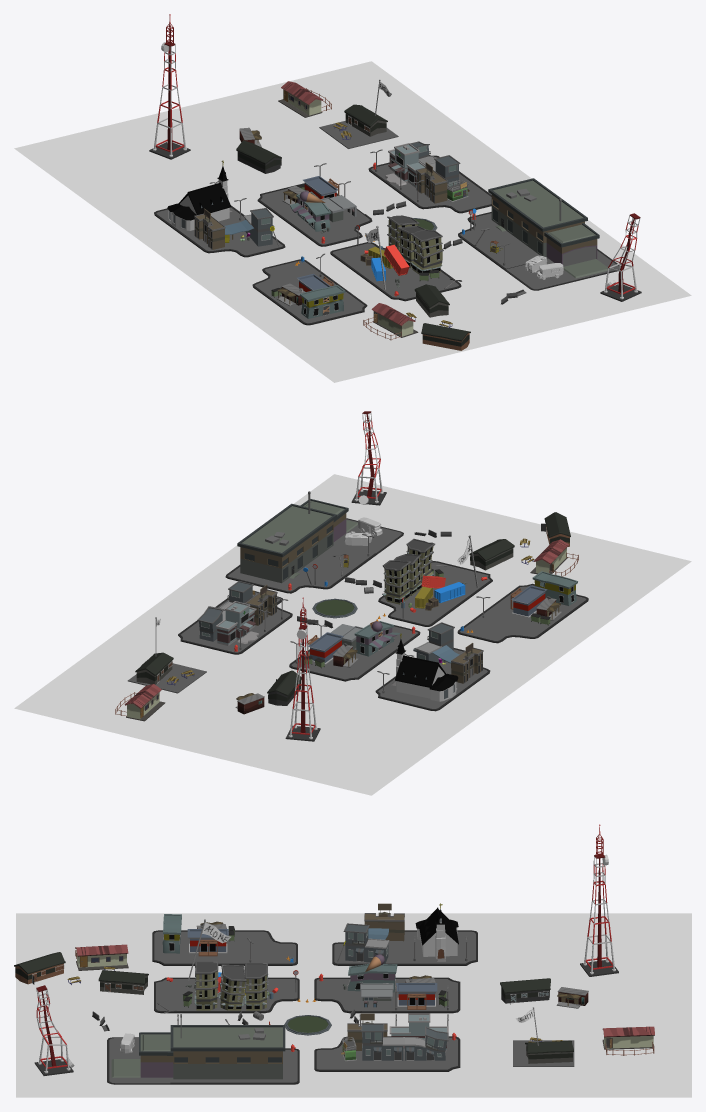
File: A simple midtown.fbx
3 renders of one model, top to bottom at view 1: azimuth 30°, elevation 25°; view 2: azimuth 150°, elevation 25°; view 3: azimuth 270°, elevation 25°, orthographic. The views are drawn at different scales.
Visible parts, largest first — view 1: Plane.014, Plane.001, Cube.003, Plane.007, Cube.021, ground.001, Plane.005, ground.002, build3.002, HOSPITAL, Cone.001, Cylinder.001 (+14 smaller); view 2: Plane.014, Plane.001, Cube.003, Plane.007, Cube.021, ground.001, Plane.005, HOSPITAL, ground.002, build3, Cylinder.001, Cone (+15 smaller); view 3: Plane.014, Plane.001, Cube.003, Plane.007, Plane.005, ground.001, Cube.021, ground.002, build4.001, build4.002, Cylinder.001, Cylinder.021 (+19 smaller).
Part boxes in pixels (box(x1,y1,x2,y2)): Plane.014: box(14, 61, 691, 382); Plane.001: box(257, 155, 620, 301); Cube.003: box(488, 178, 610, 278); Plane.007: box(252, 259, 367, 325); Cube.021: box(167, 160, 232, 230); ground.001: box(149, 14, 190, 159); Plane.005: box(154, 205, 285, 257); ground.002: box(600, 213, 641, 301); build3.002: box(410, 229, 443, 274); HOSPITAL: box(385, 143, 425, 187); Cone.001: box(300, 285, 345, 318); Cylinder.001: box(278, 81, 331, 117); Plane.014: box(14, 474, 691, 795); Plane.001: box(178, 518, 492, 681); Cube.003: box(237, 491, 357, 583); Plane.007: box(457, 583, 588, 643); Cube.021: box(391, 633, 458, 701); ground.001: box(285, 597, 320, 741); Plane.005: box(375, 648, 490, 711); HOSPITAL: box(215, 601, 258, 645); ground.002: box(351, 411, 386, 505); build3: box(382, 560, 411, 604); Cylinder.001: box(115, 684, 165, 721); Cone: box(354, 621, 400, 656); Plane.014: box(16, 913, 691, 1097); Plane.001: box(107, 977, 460, 1084); Cube.003: box(111, 1014, 285, 1079); Plane.007: box(152, 930, 297, 965); Plane.005: box(332, 930, 477, 965); ground.001: box(580, 824, 618, 976); Cube.021: box(415, 903, 458, 961); ground.002: box(34, 985, 74, 1075); build4.001: box(361, 1023, 403, 1060); build4.002: box(343, 923, 389, 963); Cylinder.001: box(602, 1026, 654, 1055); Cylinder.021: box(75, 944, 128, 970).
Size of the model in its own units: 9386 by 3486 by 14607.
